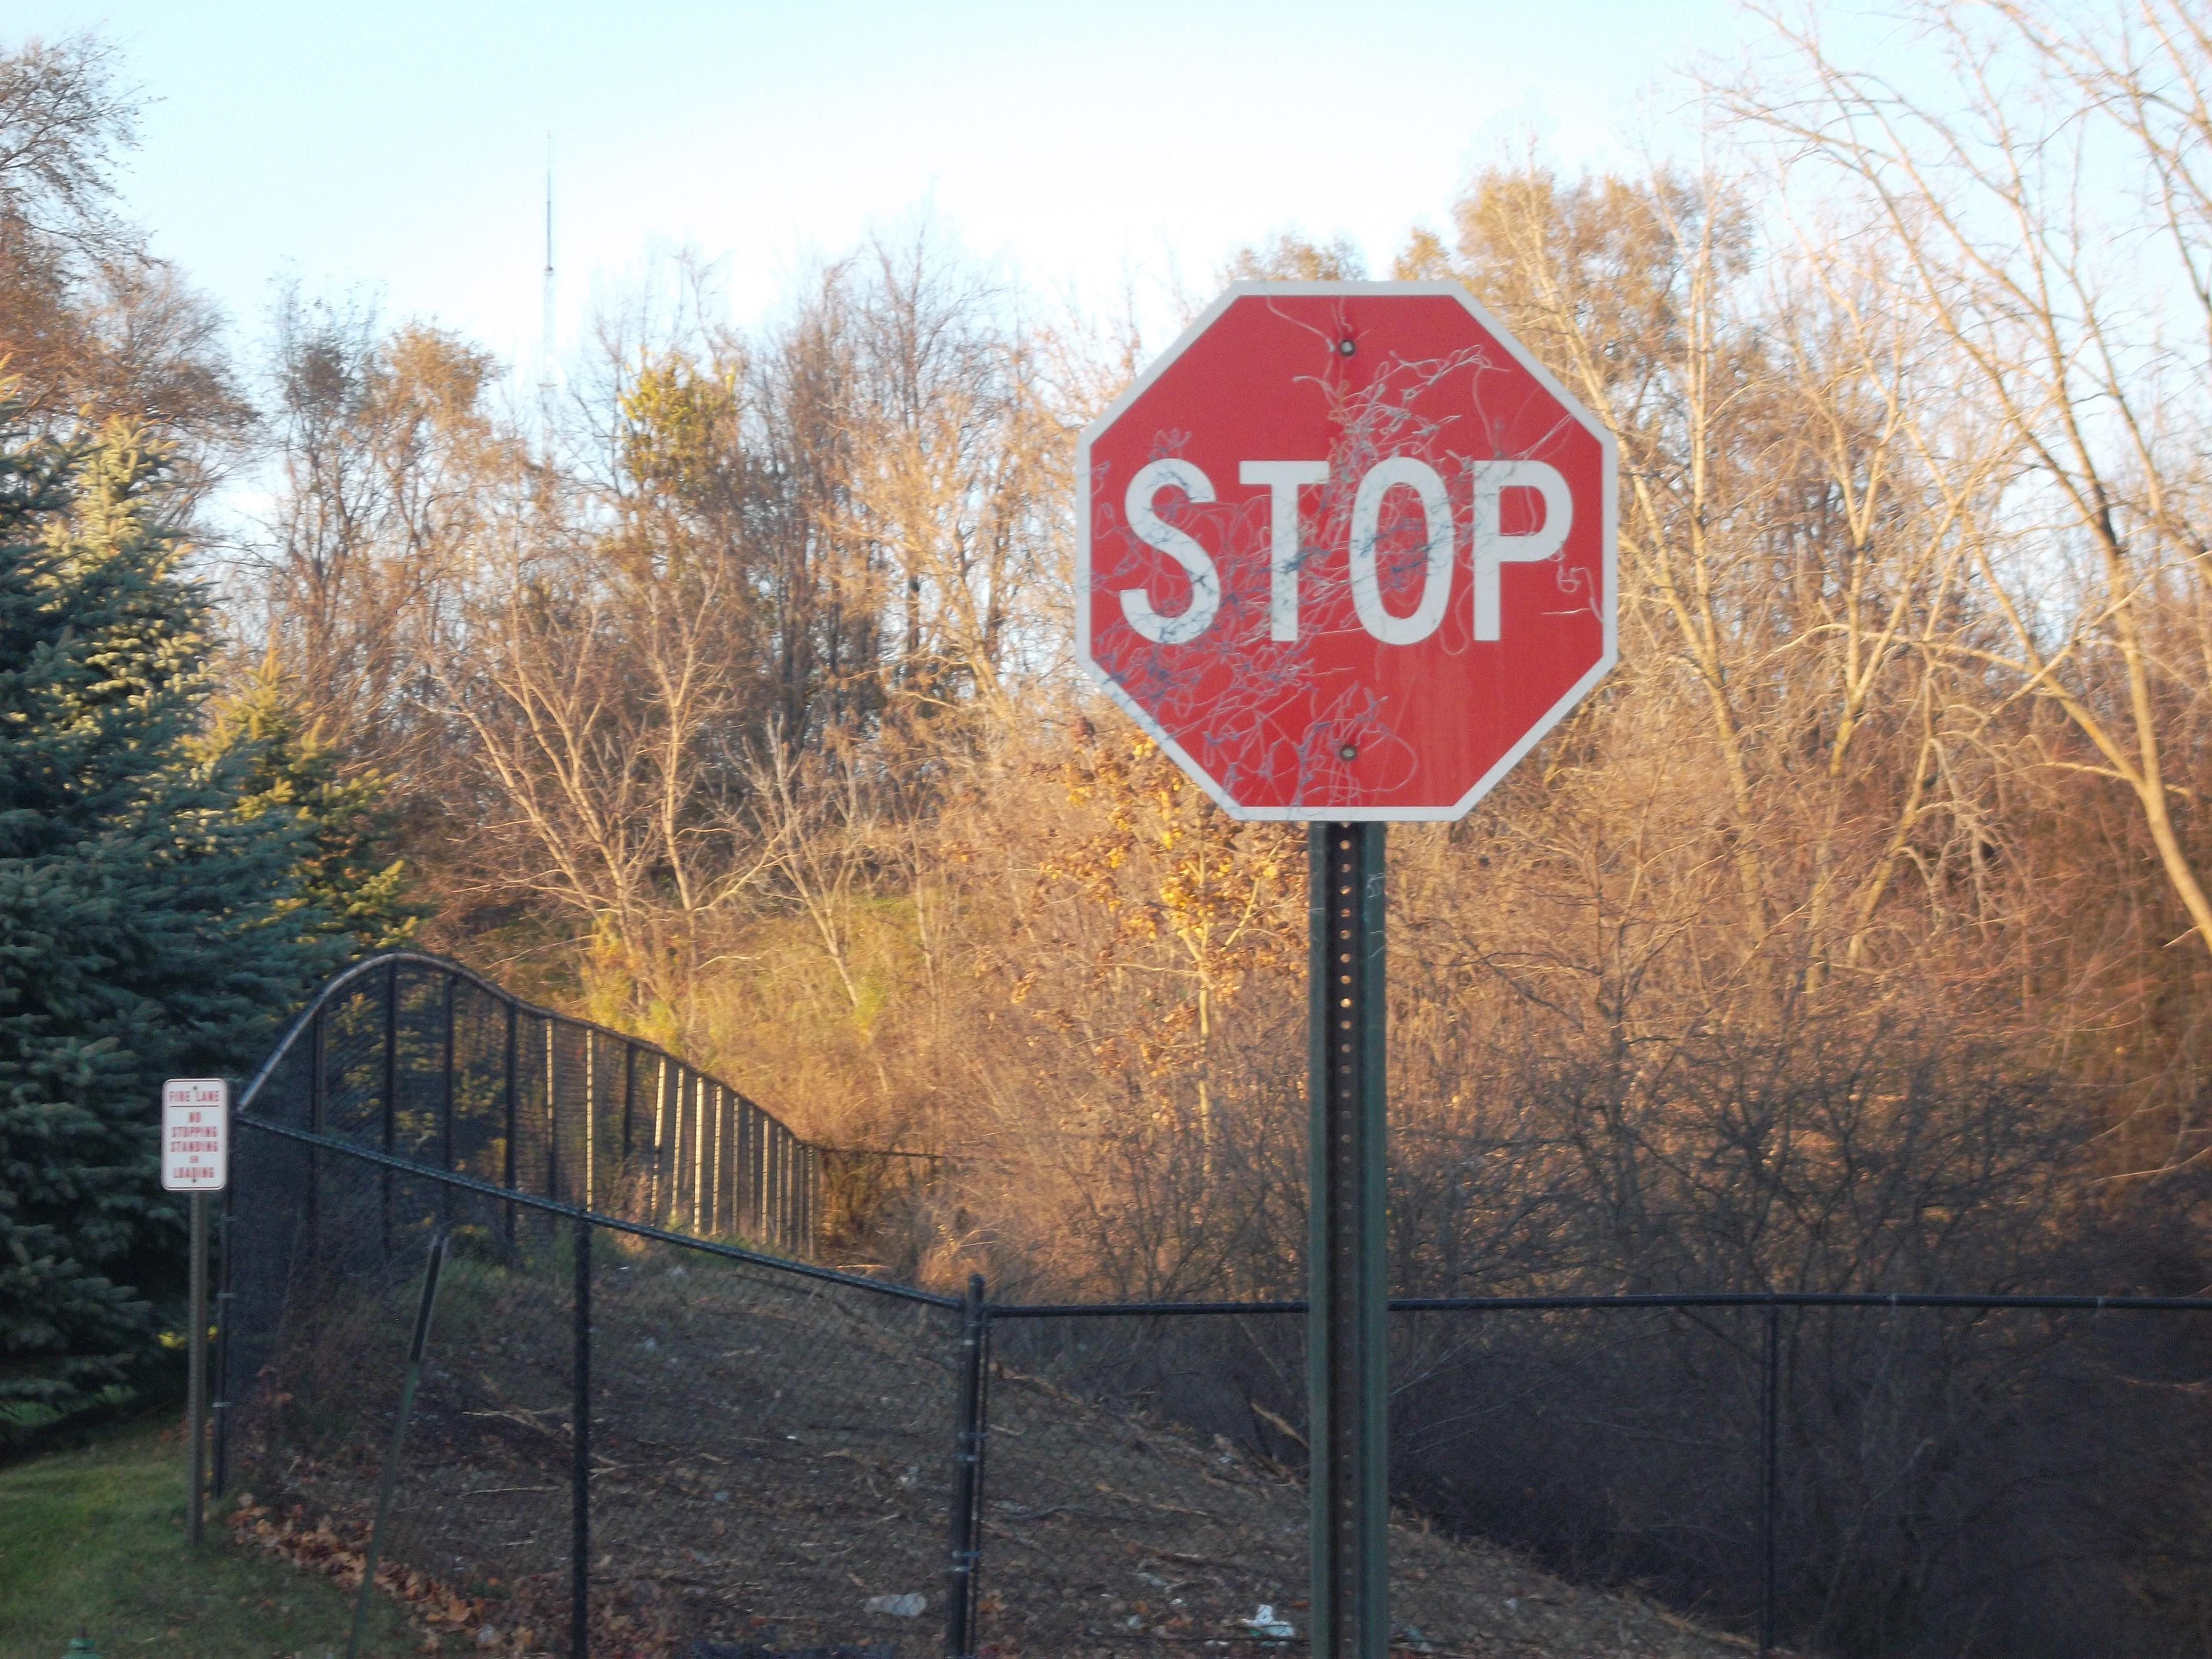stop: (1066, 277, 1634, 840)
